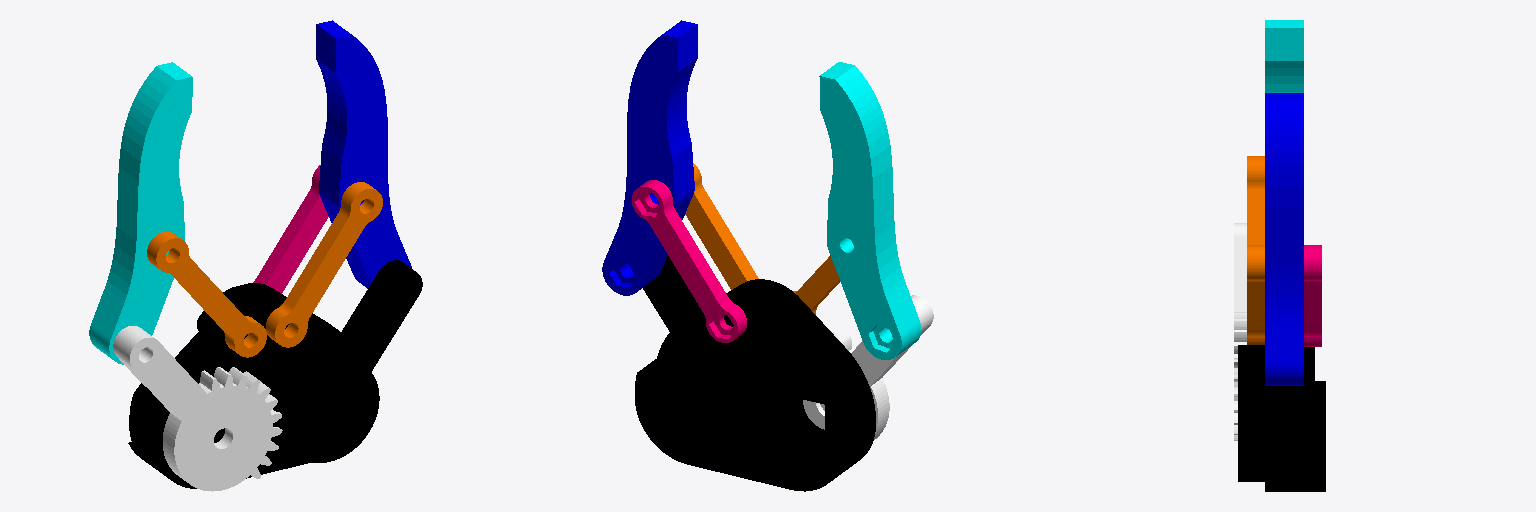
robot.urdf — robot-gripper:
<?xml version="1.0" ?>
<robot name="robot-gripper">
  <link name="base_link">
    <visual name="base_link_visual">
      <origin xyz="0 0 0" rpy="0 0 0"/>
      <geometry>
        <mesh filename="meshes/Base_1.stl"/>
      </geometry>
      <material name="base_link-material">
        <color rgba="0 0 0 1"/>
      </material>
    </visual>
    <collision name="base_link_collision">
      <origin xyz="0 0 0" rpy="0 0 0"/>
      <geometry>
        <mesh filename="meshes/Base_1.stl"/>
      </geometry>
    </collision>
    <inertial>
      <mass value="0.015290953"/>
      <inertia ixx="2.1069993e-06" iyy="4.8492375e-06" izz="3.158117e-06" ixy="-5.6211776e-09" ixz="7.1803926e-08" iyz="1.9494126e-07"/>
      <origin xyz="-0.0022614937 -0.0023823638 0.047129642" rpy="0 0 0"/>
    </inertial>
  </link>

  <link name="left_drive_gear">
    <visual name="left_drive_gear_visual">
      <origin xyz="0 0 0" rpy="0 0 0"/>
      <geometry>
        <mesh filename="meshes/Gear_Arm_2_1.stl"/>
      </geometry>
      <material name="left_drive_gear-material">
        <color rgba="1 1 1 1"/>
      </material>
    </visual>
    <collision name="left_drive_gear_collision">
      <origin xyz="0 0 0" rpy="0 0 0"/>
      <geometry>
        <mesh filename="meshes/Gear_Arm_2_1.stl"/>
      </geometry>
    </collision>
    <inertial>
      <mass value="0.0042262329"/>
      <inertia ixx="4.6408343e-07" iyy="3.7357645e-07" izz="8.1436537e-07" ixy="2.6784585e-07" ixz="-1.2441362e-08" iyz="1.5013542e-08"/>
      <origin xyz="-0.0038550445 0.005804216 0.0043127024" rpy="0 0 0"/>
    </inertial>
  </link>

  <link name="right_drive_gear">
    <visual name="right_drive_gear_visual">
      <origin xyz="0 0 0" rpy="0 0 0"/>
      <geometry>
        <mesh filename="meshes/Gear_Arm_1_1.stl"/>
      </geometry>
      <material name="right_drive_gear-material">
        <color rgba="0 0 0 1"/>
      </material>
    </visual>
    <collision name="right_drive_gear_collision">
      <origin xyz="0 0 0" rpy="0 0 0"/>
      <geometry>
        <mesh filename="meshes/Gear_Arm_1_1.stl"/>
      </geometry>
    </collision>
    <inertial>
      <mass value="0.0049578483"/>
      <inertia ixx="4.8434273e-07" iyy="3.8414473e-07" izz="8.3874037e-07" ixy="-2.5279651e-07" ixz="0" iyz="0"/>
      <origin xyz="0.0029128765 0.0047894385 0.003" rpy="0 0 0"/>
    </inertial>
  </link>

  <link name="left_inner_link">
    <visual name="left_inner_link_visual">
      <origin xyz="0 0 0" rpy="0 0 0"/>
      <geometry>
        <mesh filename="meshes/Link_2_1.stl"/>
      </geometry>
      <material name="left_inner_link-material">
        <color rgba="1 0.5 0 1"/>
      </material>
    </visual>
    <collision name="left_inner_link_collision">
      <origin xyz="0 0 0" rpy="0 0 0"/>
      <geometry>
        <mesh filename="meshes/Link_2_1.stl"/>
      </geometry>
    </collision>
    <inertial>
      <mass value="0.00099845302"/>
      <inertia ixx="8.0913286e-08" iyy="5.2279537e-08" izz="1.3053028e-07" ixy="6.0381679e-08" ixz="0" iyz="0"/>
      <origin xyz="-0.0096130635 0.012158904 0.002" rpy="0 0 0"/>
    </inertial>
  </link>

  <link name="left_outer_link">
    <visual name="left_outer_link_visual">
      <origin xyz="0 0 0" rpy="0 0 0"/>
      <geometry>
        <mesh filename="meshes/Link_1.stl"/>
      </geometry>
      <material name="left_outer_link-material">
        <color rgba="1 0 0.5 1"/>
      </material>
    </visual>
    <collision name="left_outer_link_collision">
      <origin xyz="0 0 0" rpy="0 0 0"/>
      <geometry>
        <mesh filename="meshes/Link_1.stl"/>
      </geometry>
    </collision>
    <inertial>
      <mass value="0.00090319457"/>
      <inertia ixx="6.6400522e-08" iyy="4.304676e-08" izz="1.0705886e-07" ixy="-4.9247458e-08" ixz="0" iyz="0"/>
      <origin xyz="-0.0096130635 -0.012158904 0.0018945316" rpy="0 0 0"/>
    </inertial>
  </link>

  <link name="right_inner_link">
    <visual name="right_inner_link_visual">
      <origin xyz="0 0 0" rpy="0 0 0"/>
      <geometry>
        <mesh filename="meshes/Link_1_1.stl"/>
      </geometry>
      <material name="right_inner_link-material">
        <color rgba="1 0.5 0 1"/>
      </material>
    </visual>
    <collision name="right_inner_link_collision">
      <origin xyz="0 0 0" rpy="0 0 0"/>
      <geometry>
        <mesh filename="meshes/Link_1_1.stl"/>
      </geometry>
    </collision>
    <inertial>
      <mass value="0.00099845302"/>
      <inertia ixx="8.422038e-08" iyy="4.8972443e-08" izz="1.3053028e-07" ixy="-5.9500552e-08" ixz="0" iyz="0"/>
      <origin xyz="0.0092741175 0.012419367 0.002" rpy="0 0 0"/>
    </inertial>
  </link>

  <link name="right_outer_link">
    <visual name="right_outer_link_visual">
      <origin xyz="0 0 0" rpy="0 0 0"/>
      <geometry>
        <mesh filename="meshes/Link_3_1.stl"/>
      </geometry>
      <material name="right_outer_link-material">
        <color rgba="1 0 0.5 1"/>
      </material>
    </visual>
    <collision name="right_outer_link_collision">
      <origin xyz="0 0 0" rpy="0 0 0"/>
      <geometry>
        <mesh filename="meshes/Link_3_1.stl"/>
      </geometry>
    </collision>
    <inertial>
      <mass value="0.00090319457"/>
      <inertia ixx="6.9097797e-08" iyy="4.0349485e-08" izz="1.0705886e-07" ixy="4.8528809e-08" ixz="0" iyz="0"/>
      <origin xyz="0.0092741175 -0.012419367 0.0018945316" rpy="0 0 0"/>
    </inertial>
  </link>

  <link name="left_finger">
    <visual name="left_finger_visual">
      <origin xyz="0 0 0" rpy="0 0 0"/>
      <geometry>
        <mesh filename="meshes/Grip_1.stl"/>
      </geometry>
      <material name="left_finger-material">
        <color rgba="0 1 1 1"/>
      </material>
    </visual>
    <collision name="left_finger_collision">
      <origin xyz="0 0 0" rpy="0 0 0"/>
      <geometry>
        <mesh filename="meshes/Grip_1.stl"/>
      </geometry>
    </collision>
    <inertial>
      <mass value="0.0066992081"/>
      <inertia ixx="2.0222135e-06" iyy="1.6442043e-07" izz="2.1064359e-06" ixy="-3.1587483e-07" ixz="1.0017541e-09" iyz="4.1254081e-09"/>
      <origin xyz="0.006584434 0.026658842 -0.0042268708" rpy="0 0 0"/>
    </inertial>
  </link>

  <link name="right_finger">
    <visual name="right_finger_visual">
      <origin xyz="0 0 0" rpy="0 0 0"/>
      <geometry>
        <mesh filename="meshes/Grip_1_1.stl"/>
      </geometry>
      <material name="right_finger-material">
        <color rgba="0 0 1 1"/>
      </material>
    </visual>
    <collision name="right_finger_collision">
      <origin xyz="0 0 0" rpy="0 0 0"/>
      <geometry>
        <mesh filename="meshes/Grip_1_1.stl"/>
      </geometry>
    </collision>
    <inertial>
      <mass value="0.006699208"/>
      <inertia ixx="2.0387543e-06" iyy="1.4787976e-07" izz="2.106436e-06" ixy="2.6224825e-07" ixz="-9.1824129e-10" iyz="4.1558634e-09"/>
      <origin xyz="-0.0058193137 0.026836249 -0.0042269163" rpy="0 0 0"/>
    </inertial>
  </link>

  <!-- DUMMY LINKS FOR LOOP CLOSURES -->
  <link name="left_finger_inner_dummy"/>
  <link name="left_finger_outer_dummy"/>
  <link name="right_finger_inner_dummy"/>
  <link name="right_finger_outer_dummy"/>

  <!-- MASTER ACTUATION JOINT (Left Side) -->
  <joint name="left_drive_joint" type="revolute">
    <origin xyz="-0.01676179 -0.00753234 0.04544358" rpy="1.5707963 0 0"/>
    <parent link="base_link"/>
    <child link="left_drive_gear"/>
    <axis xyz="0 0 -1"/>
    <limit effort="1" velocity="1" lower="-1.5708" upper="1.5708"/>
  </joint>

  <!-- SLAVE GEAR JOINT (Right Side) -->
  <joint name="right_drive_joint" type="continuous">
    <origin xyz="0.01013821 -0.00753234 0.04544358" rpy="1.5707963 0 0"/>
    <parent link="base_link"/>
    <child link="right_drive_gear"/>
    <axis xyz="0 0 -1"/>
  </joint>

  <!-- LEFT SIDE PARALLEL LINKS -->
  <joint name="left_inner_base_joint" type="continuous">
    <origin xyz="-0.00831179 -0.00753234 0.06544358" rpy="1.5707963 0 0"/>
    <parent link="base_link"/>
    <child link="left_inner_link"/>
    <axis xyz="0 0 -1"/>
  </joint>

  <joint name="left_outer_base_joint" type="continuous">
    <origin xyz="-0.00831179 0.00096766 0.06544358" rpy="-1.5707963 0 0"/>
    <parent link="base_link"/>
    <child link="left_outer_link"/>
    <axis xyz="0 0 -1"/>
  </joint>

  <!-- RIGHT SIDE PARALLEL LINKS -->
  <joint name="right_inner_base_joint" type="continuous">
    <origin xyz="0.00168821 -0.00753234 0.06544358" rpy="1.5707963 0 0"/>
    <parent link="base_link"/>
    <child link="right_inner_link"/>
    <axis xyz="0 0 -1"/>
  </joint>

  <joint name="right_outer_base_joint" type="continuous">
    <origin xyz="0.00168821 0.00096766 0.06544358" rpy="-1.5707963 0 0"/>
    <parent link="base_link"/>
    <child link="right_outer_link"/>
    <axis xyz="0 0 -1"/>
  </joint>

  <!-- FINGER DRIVE JOINTS -->
  <joint name="left_finger_gear_joint" type="continuous">
    <origin xyz="-0.01906385 0.02412741 0" rpy="0 0 0"/>
    <parent link="left_drive_gear"/>
    <child link="left_finger"/>
    <axis xyz="0 0 -1"/>
  </joint>

  <joint name="right_finger_gear_joint" type="continuous">
    <origin xyz="0.01870495 0.0244067 0" rpy="0 0 0"/>
    <parent link="right_drive_gear"/>
    <child link="right_finger"/>
    <axis xyz="0 0 -1"/>
  </joint>

  <!-- LOOP CLOSING JOINTS (Connecting to Dummy Links) -->
  <joint name="left_finger_inner_joint" type="continuous">
    <origin xyz="-0.01922613 0.02431781 0" rpy="0 0 0"/>
    <parent link="left_inner_link"/>
    <child link="left_finger_inner_dummy"/>
    <axis xyz="0 0 -1"/>
  </joint>

  <joint name="left_finger_outer_joint" type="continuous">
    <origin xyz="0.00873772 0.0201904 -0.0085" rpy="0 0 0"/>
    <parent link="left_outer_link"/>
    <child link="left_finger_outer_dummy"/>
    <axis xyz="0 0 -1"/>
  </joint>

  <joint name="right_finger_inner_joint" type="continuous">
    <origin xyz="0.01854823 0.02483874 0" rpy="0 0 0"/>
    <parent link="right_inner_link"/>
    <child link="right_finger_inner_dummy"/>
    <axis xyz="0 0 -1"/>
  </joint>

  <joint name="right_finger_outer_joint" type="continuous">
    <origin xyz="0.01854823 -0.02483874 0" rpy="0 0 0"/>
    <parent link="right_outer_link"/>
    <child link="right_finger_outer_dummy"/>
    <axis xyz="0 0 -1"/>
  </joint>

</robot>

--- What the picture shows (computed from the rendered views, not written in the file) ---
3 views of the same robot in one strip: view 1: azimuth 30°, elevation 25°; view 2: azimuth 150°, elevation 25°; view 3: azimuth 270°, elevation 25° (orthographic).
Model robot-gripper with 13 links and 12 joints (1 revolute, 11 continuous), rooted at base_link, posed every joint at zero.
Visible links, largest first — view 1: left_finger, right_drive_gear, left_drive_gear, right_finger, base_link, right_inner_link, left_inner_link, right_outer_link; view 2: base_link, left_finger, right_finger, right_outer_link, right_inner_link, left_drive_gear, right_drive_gear, left_inner_link; view 3: right_finger, base_link, right_drive_gear, left_finger, left_drive_gear, right_outer_link, right_inner_link, left_inner_link.
Boxes of the visible links, bbox=[...] form: left_finger: bbox=[89, 62, 192, 364]; right_drive_gear: bbox=[264, 260, 422, 464]; left_drive_gear: bbox=[113, 326, 282, 491]; right_finger: bbox=[316, 20, 411, 288]; base_link: bbox=[128, 283, 340, 488]; right_inner_link: bbox=[266, 182, 382, 347]; left_inner_link: bbox=[147, 231, 266, 357]; right_outer_link: bbox=[253, 165, 328, 293]; base_link: bbox=[635, 279, 875, 491]; left_finger: bbox=[819, 62, 920, 359]; right_finger: bbox=[602, 20, 697, 295]; right_outer_link: bbox=[632, 180, 746, 342]; right_inner_link: bbox=[685, 163, 758, 289]; left_drive_gear: bbox=[803, 295, 933, 439]; right_drive_gear: bbox=[643, 256, 711, 380]; left_inner_link: bbox=[793, 255, 839, 314]; right_finger: bbox=[1265, 93, 1303, 385]; base_link: bbox=[1265, 347, 1325, 491]; right_drive_gear: bbox=[1238, 345, 1264, 481]; left_finger: bbox=[1265, 20, 1303, 92]; left_drive_gear: bbox=[1234, 223, 1246, 440]; right_outer_link: bbox=[1304, 245, 1321, 346]; right_inner_link: bbox=[1247, 245, 1264, 344]; left_inner_link: bbox=[1247, 156, 1264, 244].
Bounding box of the posed robot: 0.0747 × 0.0205 × 0.0983 m (x, y, z).
8 mesh visuals loaded from 9 distinct referenced files (8 binary STL); not drawn: 1 (reference not matched to a file when rendering).
